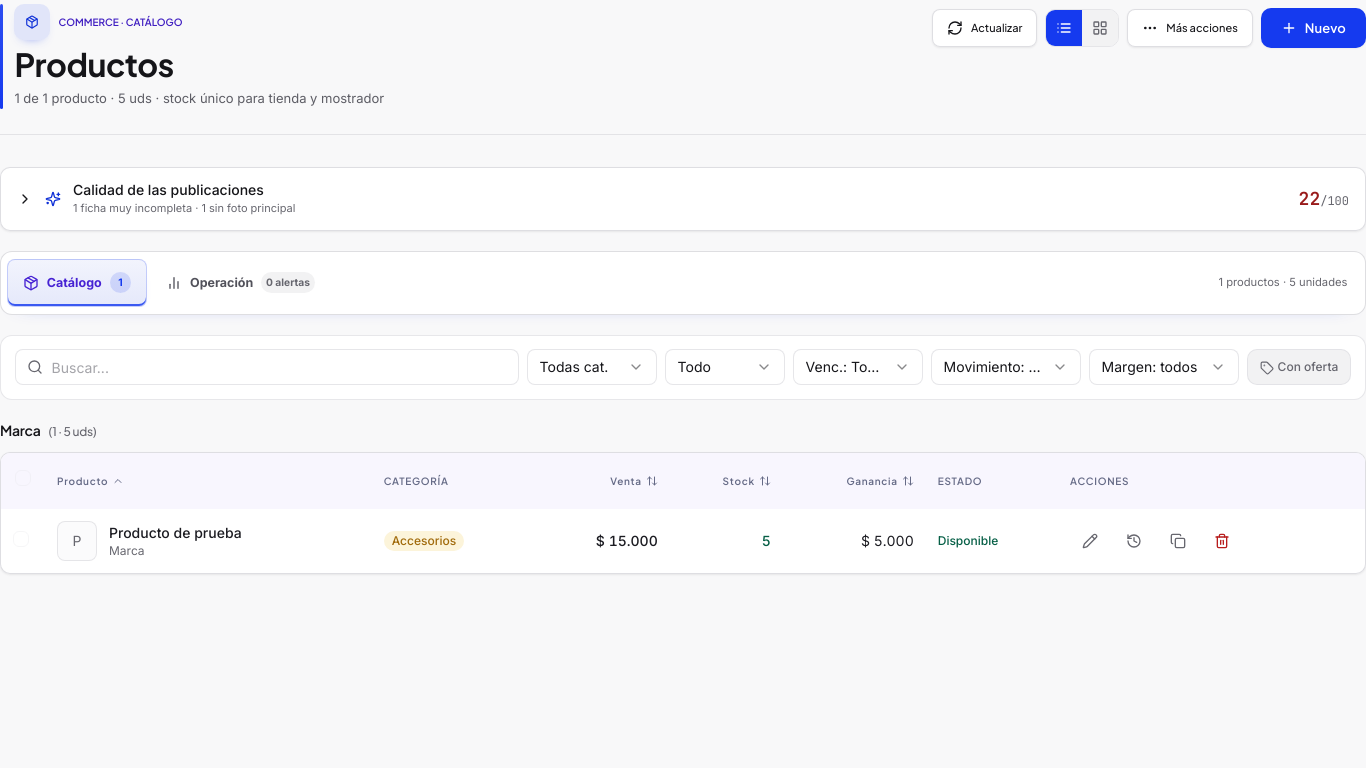
Scenario: flujo real de Productos con backend simulado › muestra error recuperable sin SQL ni exito falso al rechazar eliminacion
The image size is (1366, 768).
Expected: the element named "Tabla de productos" is shown, [0,452,1365,574]
Click the button named "Eliminar Producto de prueba".
click(1222, 541)  # box [1202,521,1242,561]
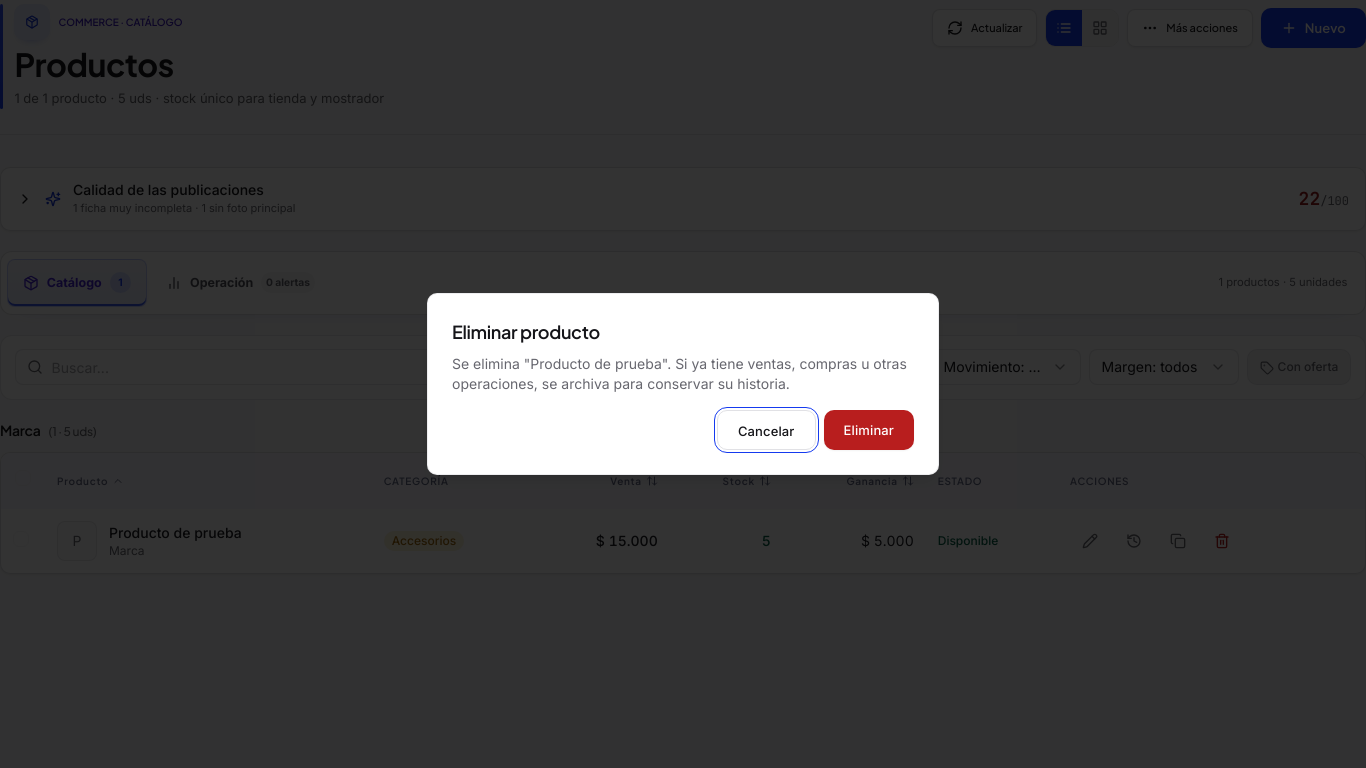
Click the button "Eliminar".
click(869, 430)  # box [824,410,914,450]
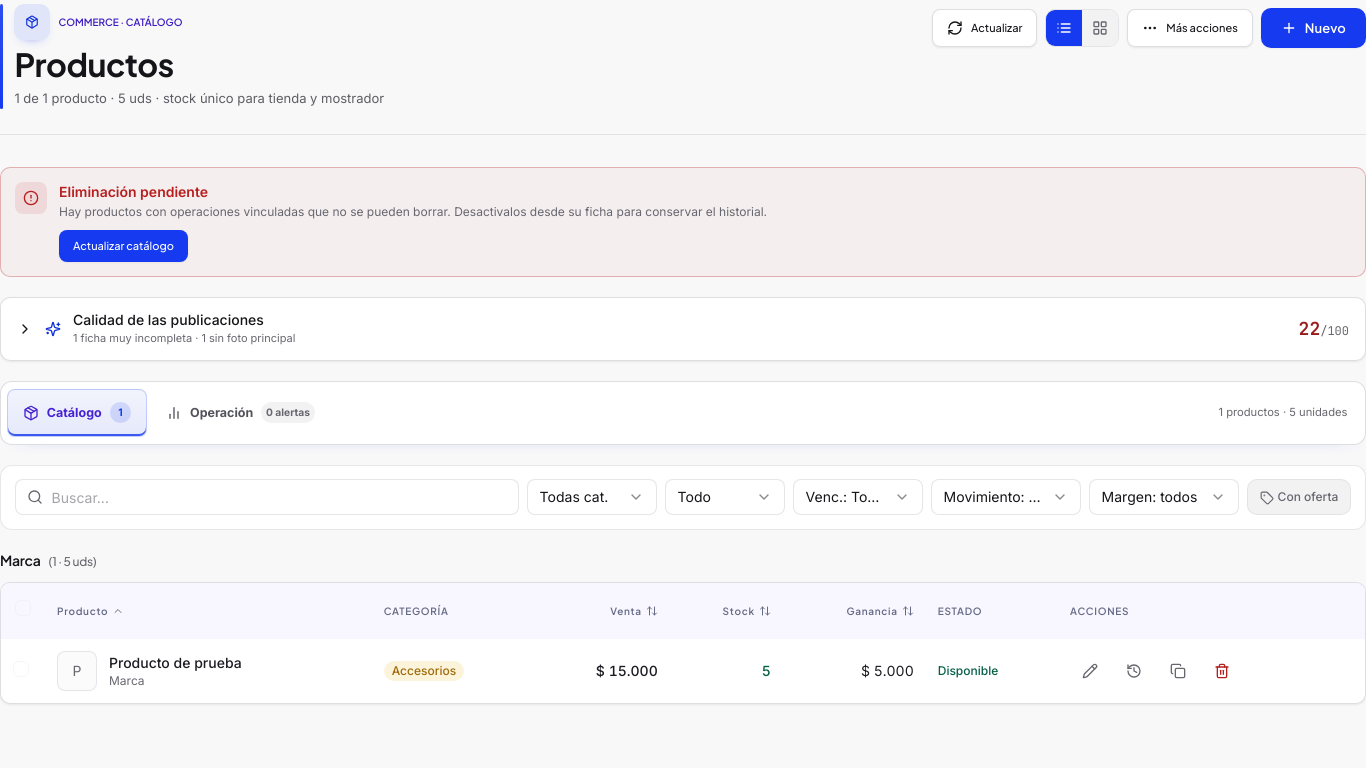
Expected: the button named "Eliminar Producto de prueba" is enabled, [1202,651,1242,691]
Expected: the text "productos con operaciones vinculadas" is shown, [59,204,767,219]
